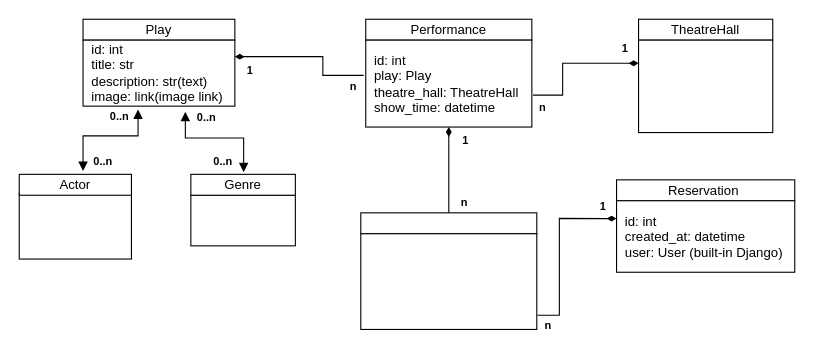
The diagram is 814 pixels wide and 352 high, and some of its shapes have lost their labels. The shapes that lost their labels are listed below. From the top down, each one's centre as x and y in pixels, then its label:
the point at 705,86: id: int name: str rows: int seats_in_row: int
the point at 74,225: id: int first_name: str last_name: str
the point at 242,220: id: int name: str
the point at 448,223: Ticket
the point at 448,281: id: int row: int seat: int performance: Performance reservation: Reservation
